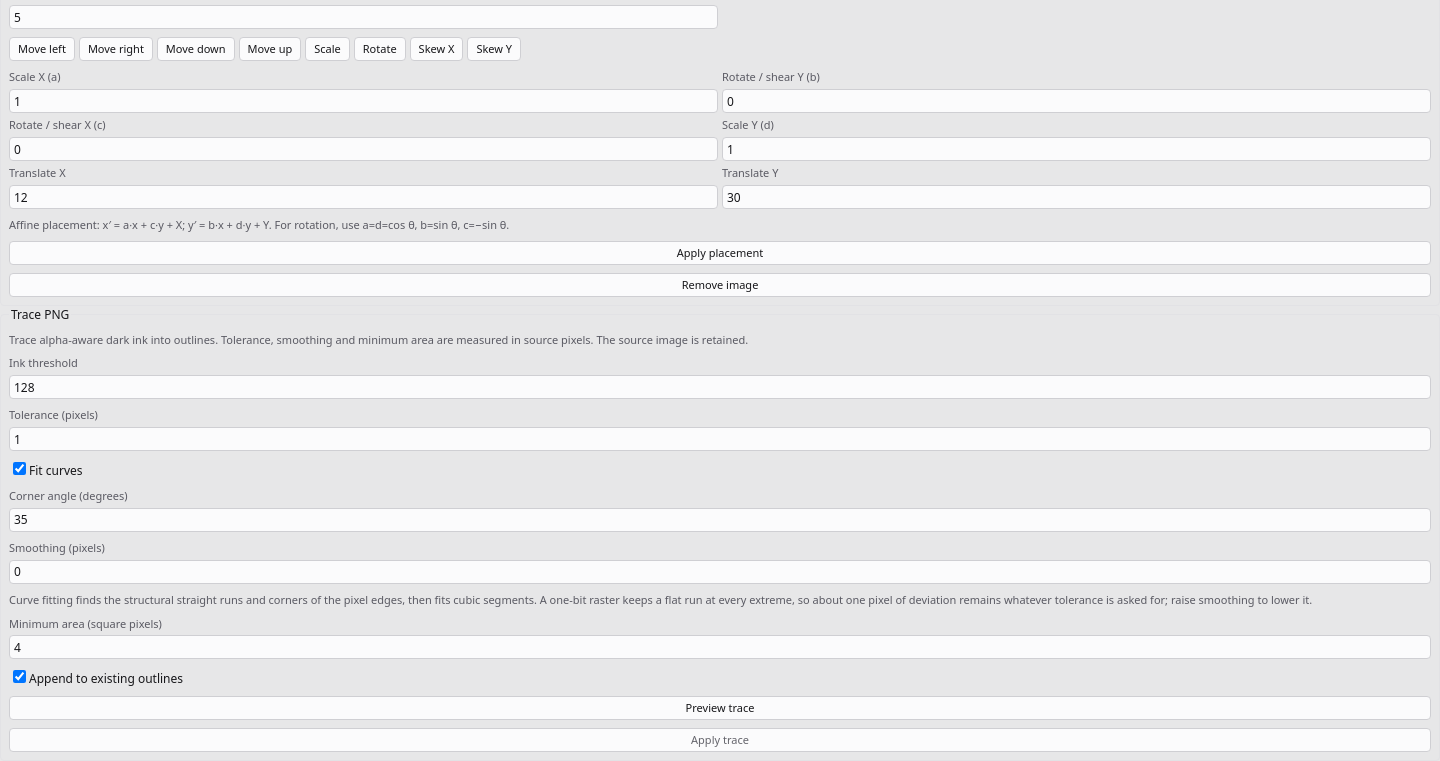
Scenario: reports the traced node count, deviation, dropped rings and any fallback
This screenshot has width=1440, height=761.
(page scrolled)
Click the button "Preview trace" at coordinates (720, 708), box [9,696,1431,720]
(page scrolled)
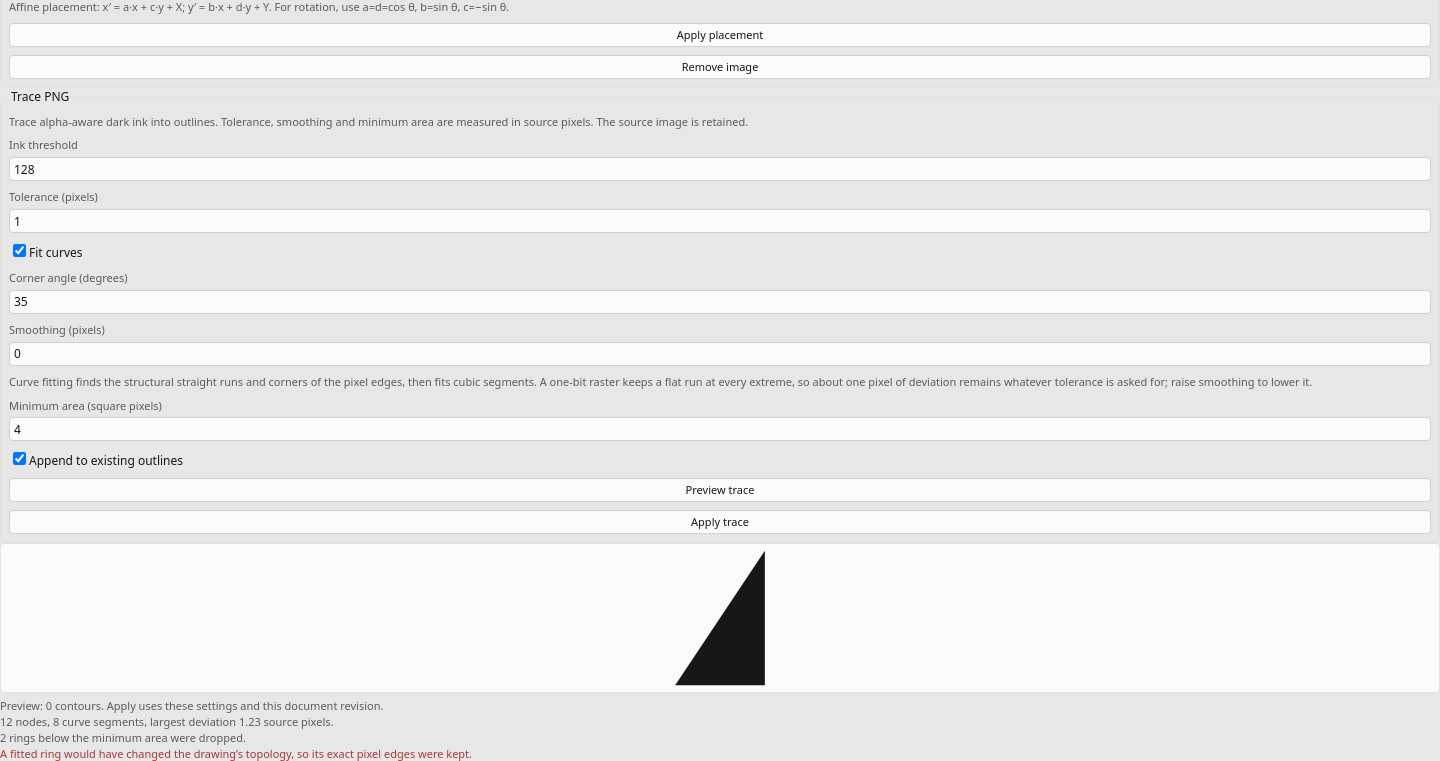
Expected: the text "12 nodes, 8 curve segments, largest deviation 1.23 source pixels." is shown, [0,714,334,729]
Expected: the text "2 rings below the minimum area were dropped." is shown, [0,730,246,745]
Expected: the 2nd message shows "exact pixel edges were kept", [0,746,472,760]
